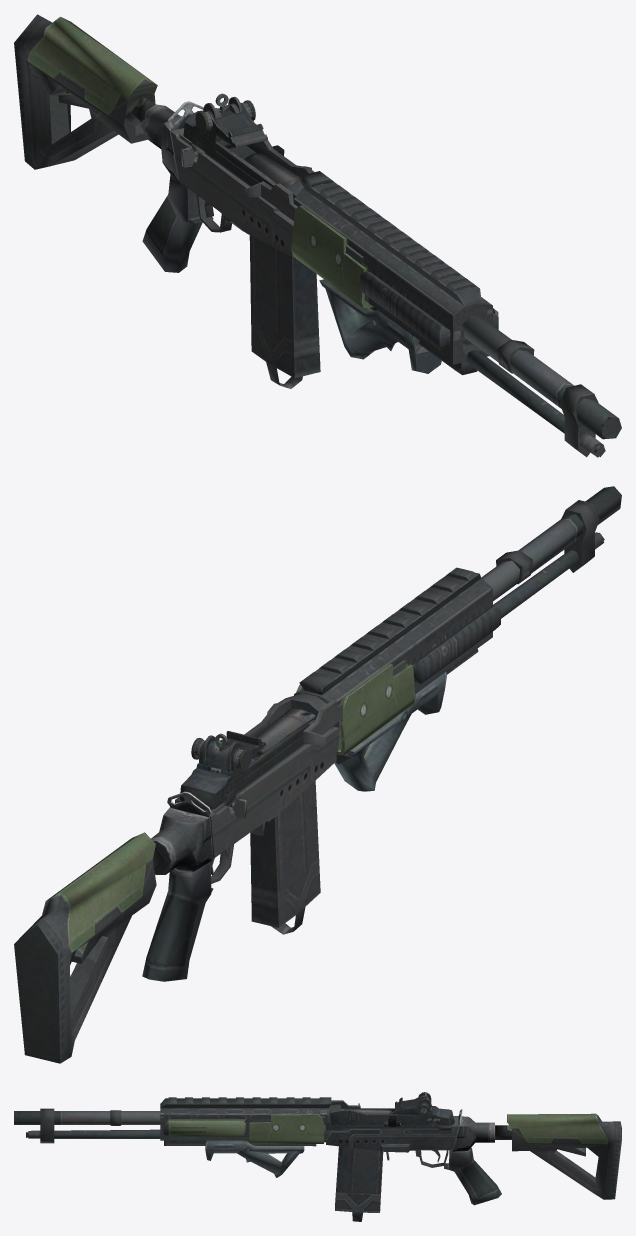
Rendered from Assault_Rifle_bq_qs_01_Body_Main_(000426).glb.
3 renders of one model, top to bottom at view 1: azimuth 30°, elevation 25°; view 2: azimuth 150°, elevation 25°; view 3: azimuth 270°, elevation 25°, orthographic. The views are drawn at different scales.
Parts seen in each view (by area): view 1: bq_qs_01; view 2: bq_qs_01; view 3: bq_qs_01.
Boxes of the visible parts, <box> form: bq_qs_01: <box>14,14,621,457</box>; bq_qs_01: <box>14,486,621,1063</box>; bq_qs_01: <box>14,1092,621,1221</box>.
Bounding box in the file's own units: 0.0979 × 0.314 × 1.34.
1 material, 1 textured.
